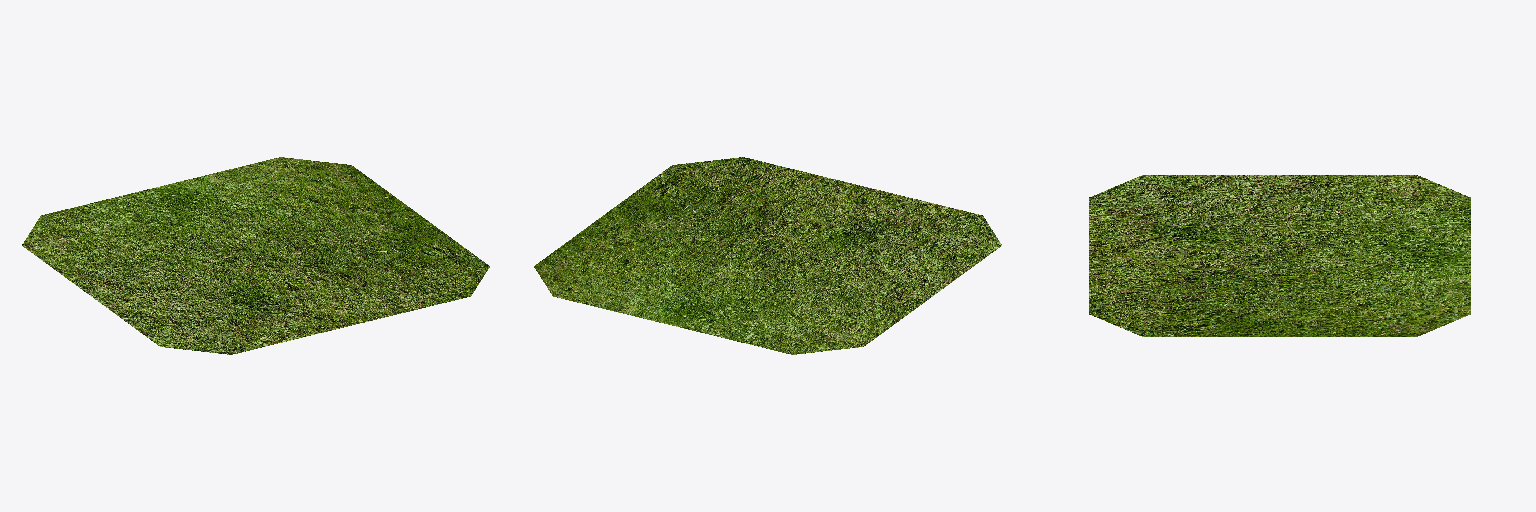
3 renders of one model, left to right at view 1: azimuth 30°, elevation 25°; view 2: azimuth 150°, elevation 25°; view 3: azimuth 270°, elevation 25°, orthographic.
Visible parts, largest first — view 1: Plane; view 2: Plane; view 3: Plane.
Boxes of the visible parts, box(x1,y1,x2,y2) form: Plane: box(22, 157, 489, 354); Plane: box(534, 157, 1001, 354); Plane: box(1089, 175, 1470, 336).
Size of the model in its own units: 2 by 0 by 2.
Materials: 1 (1 with a texture image).